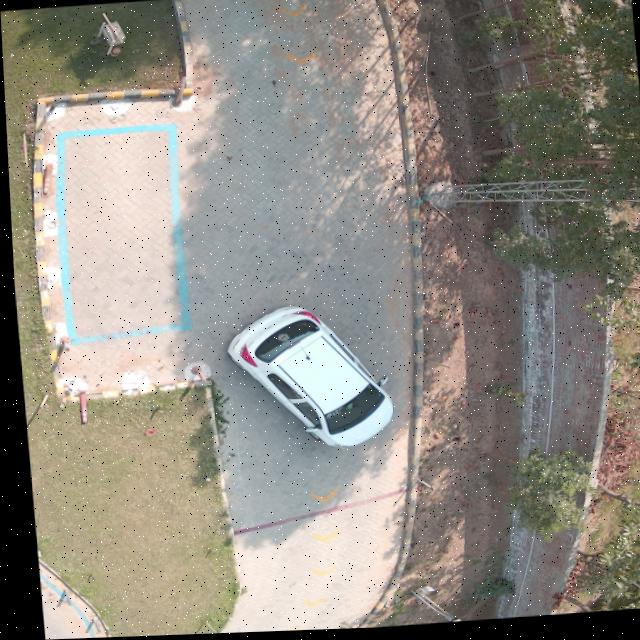car: (219, 308, 387, 450)
